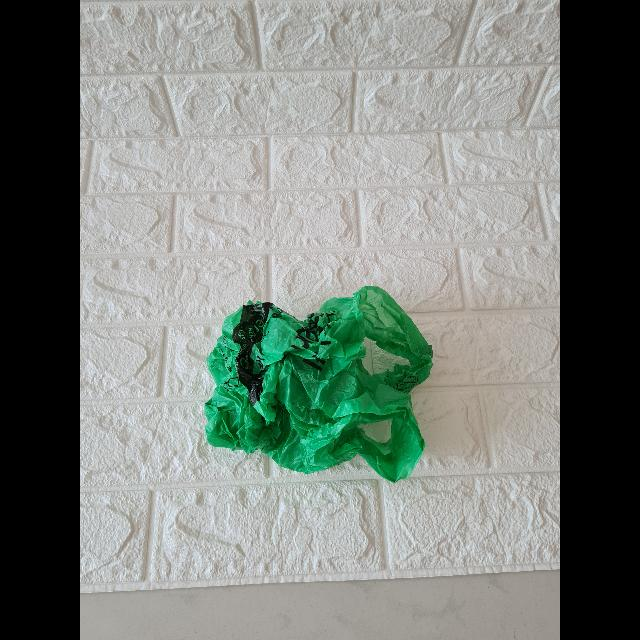plastic_bag: (205, 286, 438, 476)
